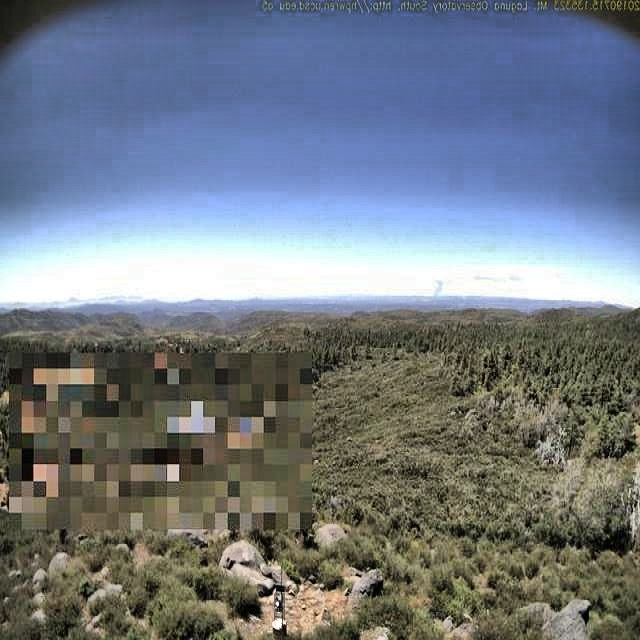smoke: (430, 274, 447, 306)
